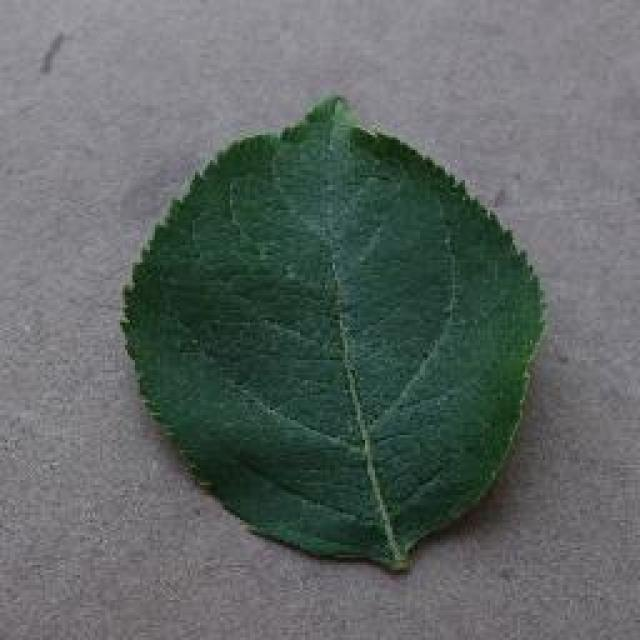apple healthy: (118, 92, 550, 572)
